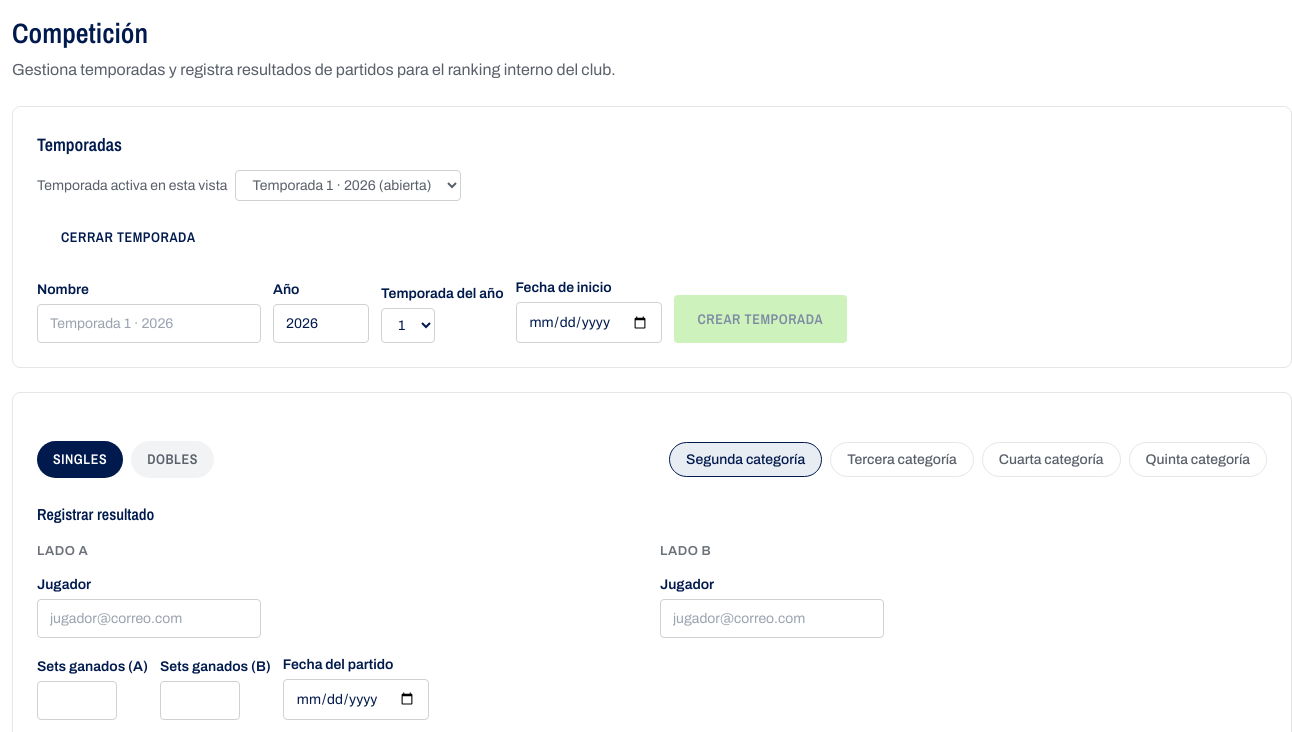
CompetitionPage › once a season exists, the match form appears with the correct participant slots for the modality
expect the heading "Registrar resultado" is shown: met, box [37,503,154,525]
expect the number of fields labelled "Jugador" is 2: met, box [37,598,261,638]; [660,598,884,638]
Click the tab "Dobles": (172, 460) [131,441,214,478]
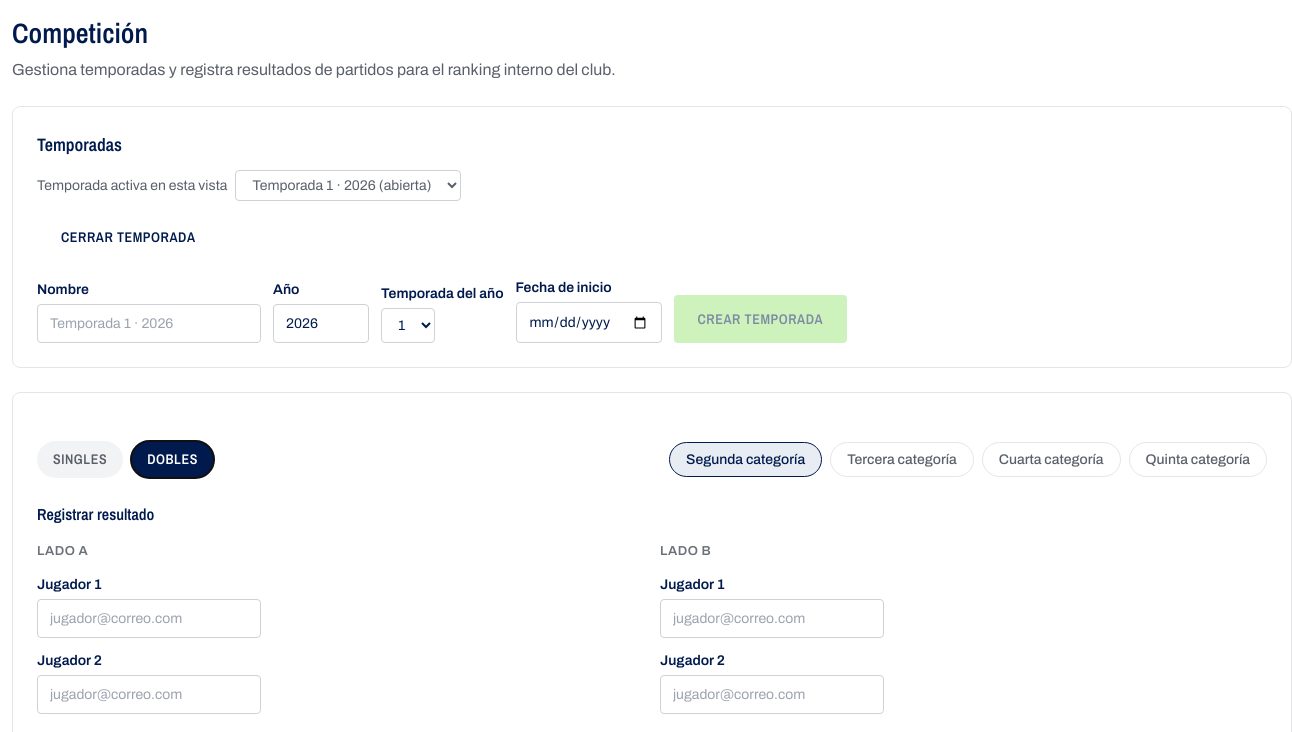
expect the number of fields labelled "Jugador 1" is 4: met, box [37,598,261,638]; [37,674,261,714]; [660,598,884,638]; [660,674,884,714]
